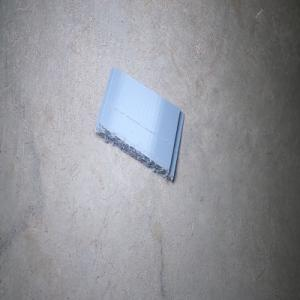PlasticPart: (93, 67, 184, 182)
